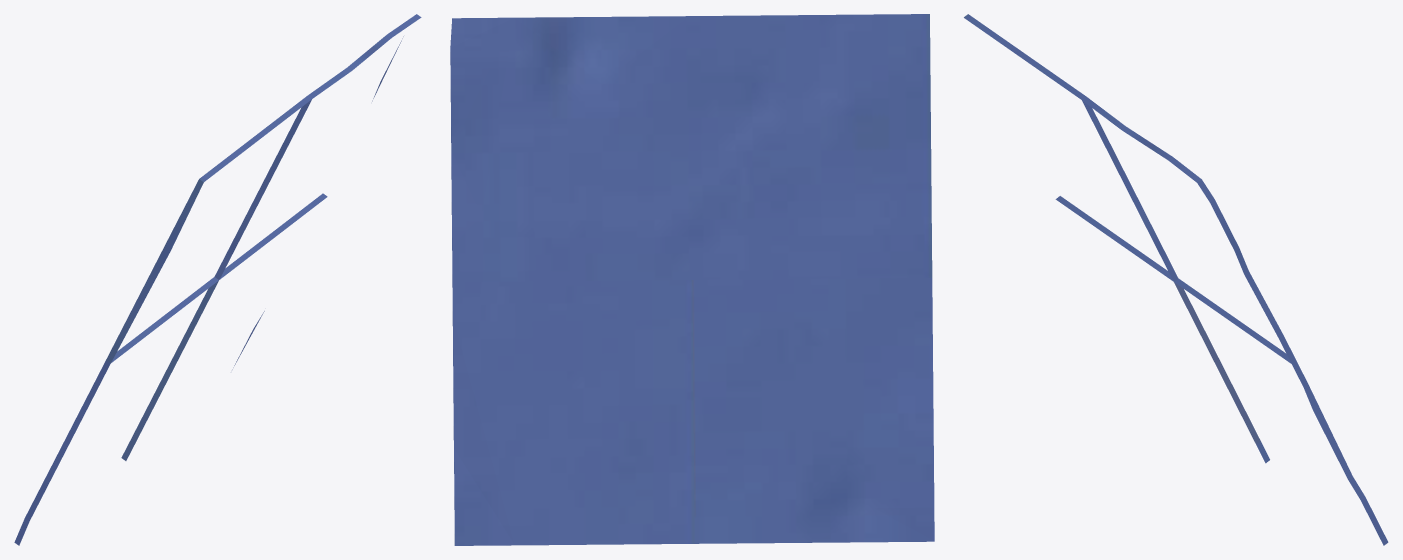
3 renders of one model, left to right at view 1: azimuth 30°, elevation 25°; view 2: azimuth 150°, elevation 25°; view 3: azimuth 270°, elevation 25°, orthographic. The views are drawn at different scales.
Size of the model in its own units: 19648 by 17846 by 16612.
Materials: 1 (1 with a texture image).
